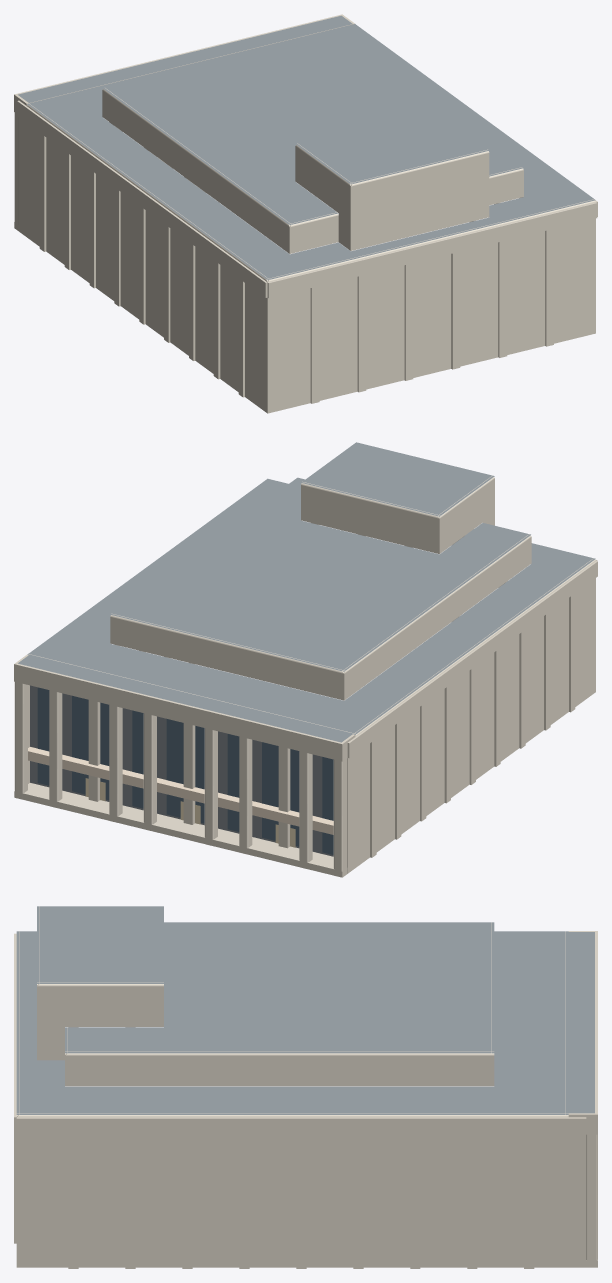
Rendered from nyc-koch-theater.glb.
The picture shows the model from 3 angles, top to bottom: view 1: azimuth 30°, elevation 25°; view 2: azimuth 150°, elevation 25°; view 3: azimuth 270°, elevation 25°; orthographic projection. The views are drawn at different scales.
Parts seen in each view (by area): view 1: David H. Koch Theater; view 2: David H. Koch Theater; view 3: David H. Koch Theater.
Part boxes in pixels (x1=…): David H. Koch Theater: x1=14, y1=14, x2=597, y2=413; David H. Koch Theater: x1=14, y1=442, x2=597, y2=877; David H. Koch Theater: x1=14, y1=906, x2=597, y2=1268.
Size of the model in its own units: 59.9 by 34.5 by 79.55.
